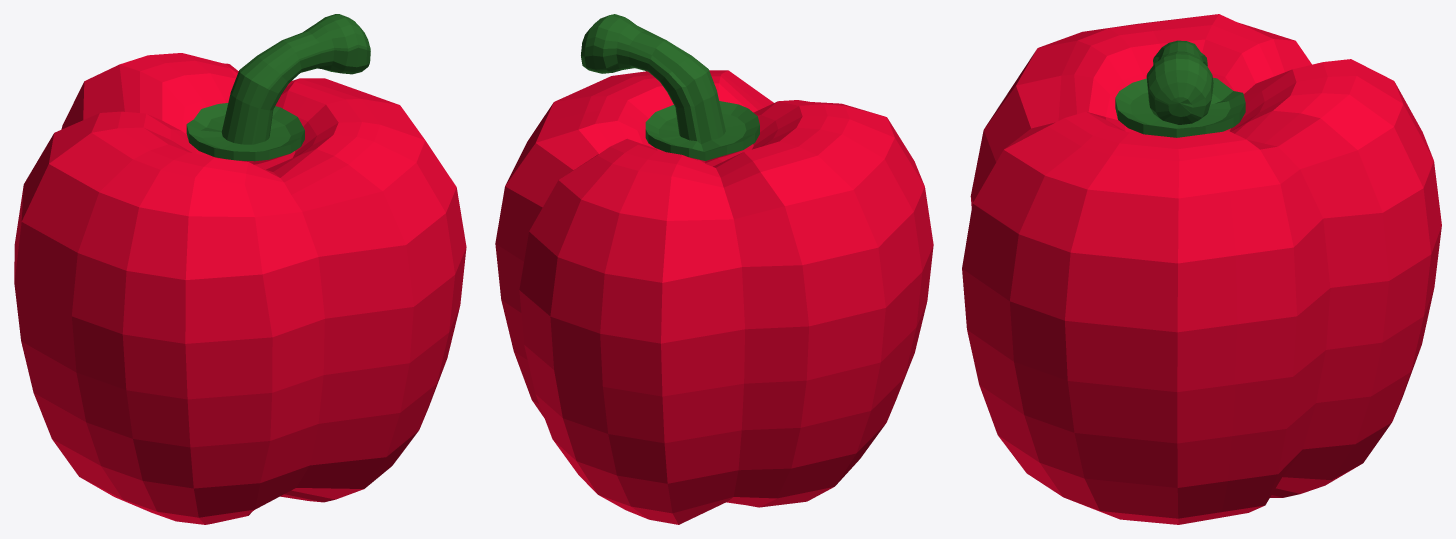
The model's file is Bell_Pepper_real.glb.
3 views of the same model, side by side, from view 1: azimuth 30°, elevation 25°; view 2: azimuth 150°, elevation 25°; view 3: azimuth 270°, elevation 25° (orthographic). The views are drawn at different scales.
Visible parts, largest first — view 1: Pepper; view 2: Pepper; view 3: Pepper.
Boxes of the visible parts, <box> form: Pepper: <box>14,14,466,524</box>; Pepper: <box>495,14,933,524</box>; Pepper: <box>962,14,1441,524</box>.
Size of the model in its own units: 2.17 by 2.31 by 2.1.
